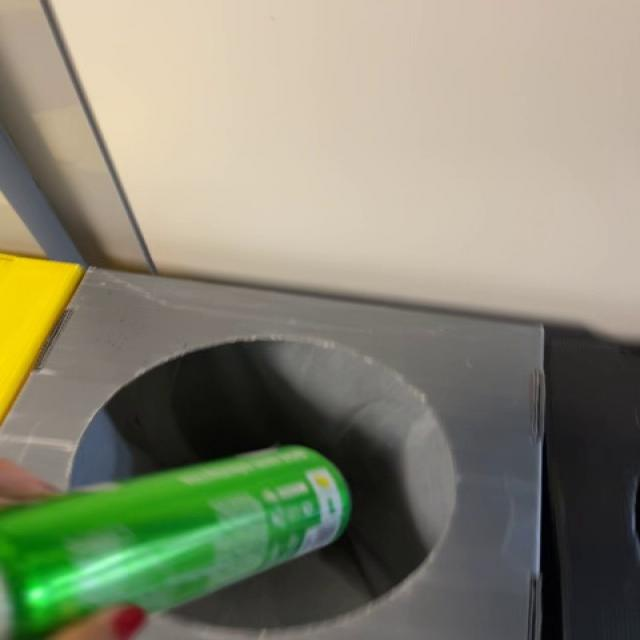bin: (3, 269, 541, 640)
metal: (0, 448, 351, 640)
